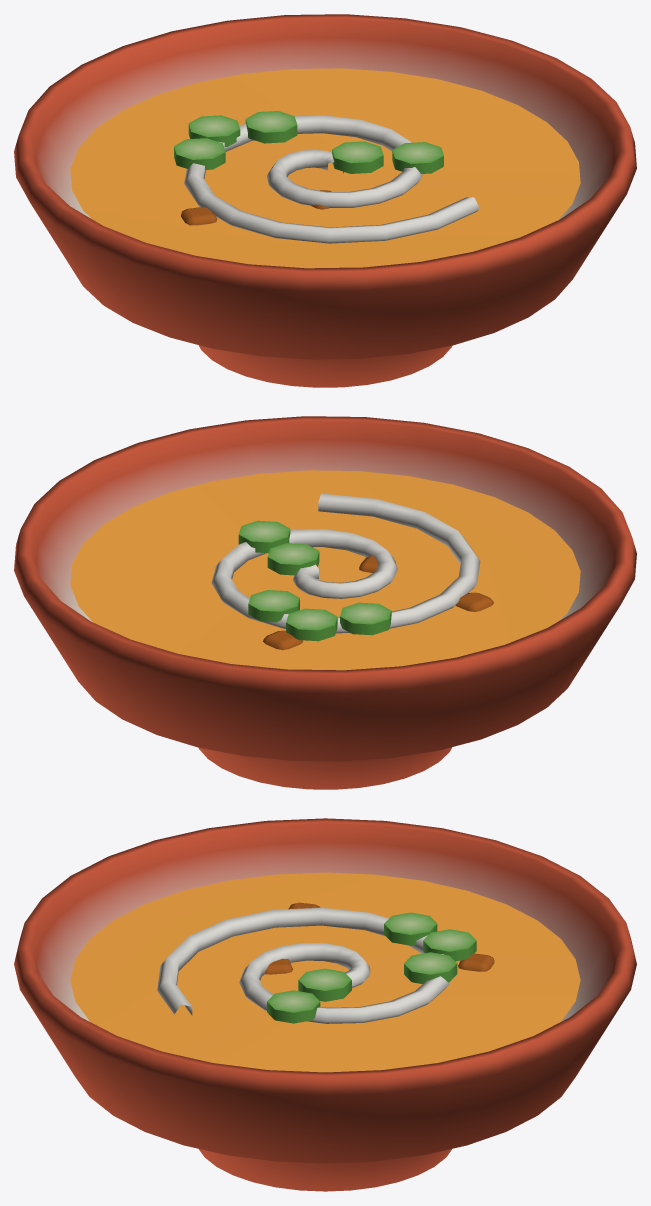
Rendered from item_dish_pumpkin_soup.glb.
The picture shows the model from 3 angles, top to bottom: view 1: azimuth 30°, elevation 25°; view 2: azimuth 150°, elevation 25°; view 3: azimuth 270°, elevation 25°; orthographic projection.
Visible parts, largest first — view 1: item_dish_pumpkin_soup_main, item_dish_pumpkin_soup_gloss; view 2: item_dish_pumpkin_soup_main, item_dish_pumpkin_soup_gloss; view 3: item_dish_pumpkin_soup_main, item_dish_pumpkin_soup_gloss.
Boxes of the visible parts, bbox=[...] form: item_dish_pumpkin_soup_main: bbox=[14, 14, 636, 387]; item_dish_pumpkin_soup_gloss: bbox=[70, 68, 580, 268]; item_dish_pumpkin_soup_main: bbox=[14, 416, 636, 789]; item_dish_pumpkin_soup_gloss: bbox=[70, 470, 580, 670]; item_dish_pumpkin_soup_main: bbox=[14, 818, 636, 1191]; item_dish_pumpkin_soup_gloss: bbox=[70, 872, 580, 1072].
Size of the model in its own units: 0.21 by 0.07 by 0.21.
